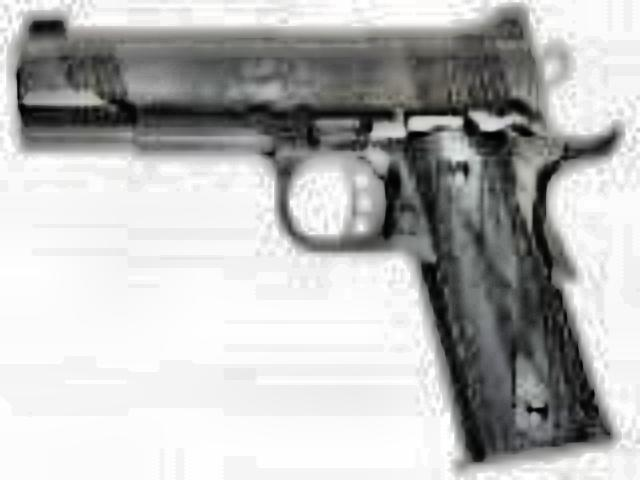pistol: (8, 8, 616, 460)
